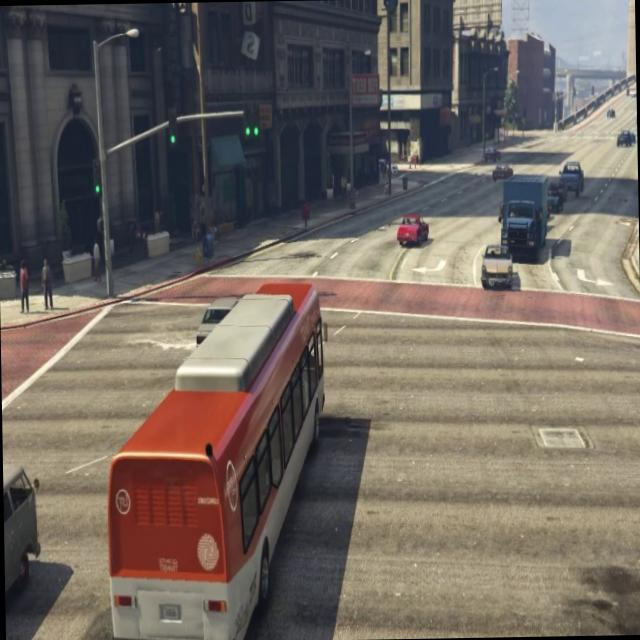Green-Signal: (236, 90, 266, 150), (164, 102, 180, 152), (90, 151, 102, 201)
